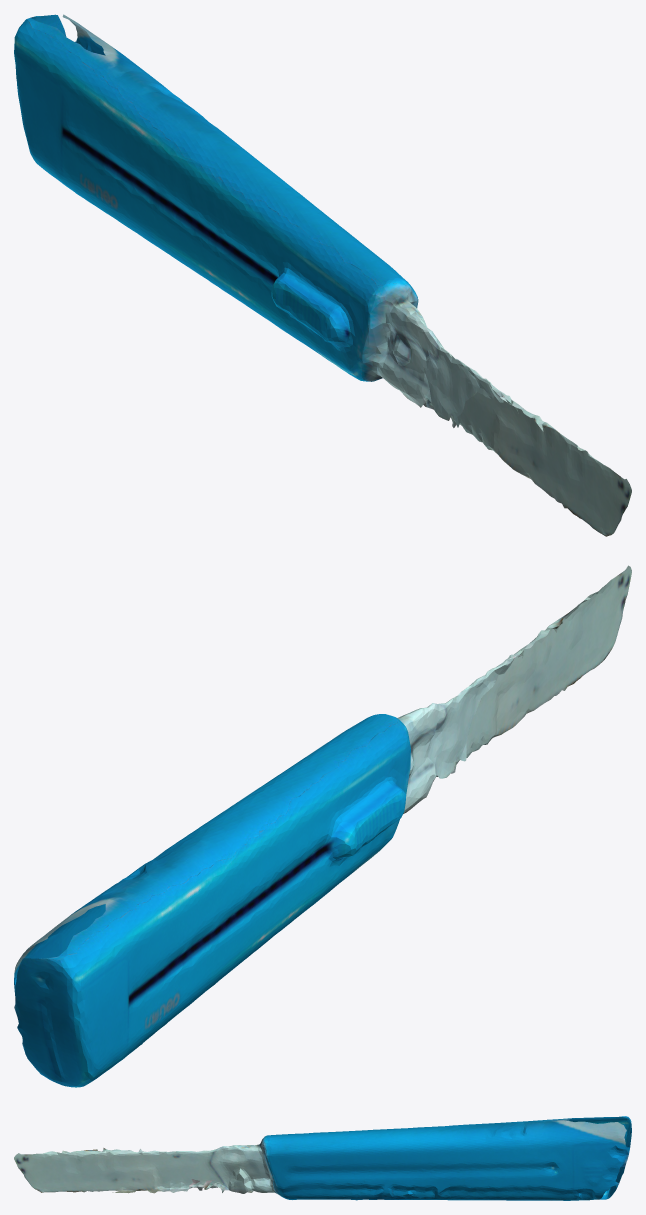
The model's file is scan_align.obj.
3 renders of one model, top to bottom at view 1: azimuth 30°, elevation 25°; view 2: azimuth 150°, elevation 25°; view 3: azimuth 270°, elevation 25°, orthographic. The views are drawn at different scales.
Visible parts, largest first — view 1: all; view 2: all; view 3: all.
Part boxes in pixels (x1,y1,x2,y2): all: (14, 14, 631, 536); all: (14, 565, 631, 1087); all: (14, 1116, 631, 1200).
Bounding box in the file's own units: 0.0175 × 0.0339 × 0.2418.
